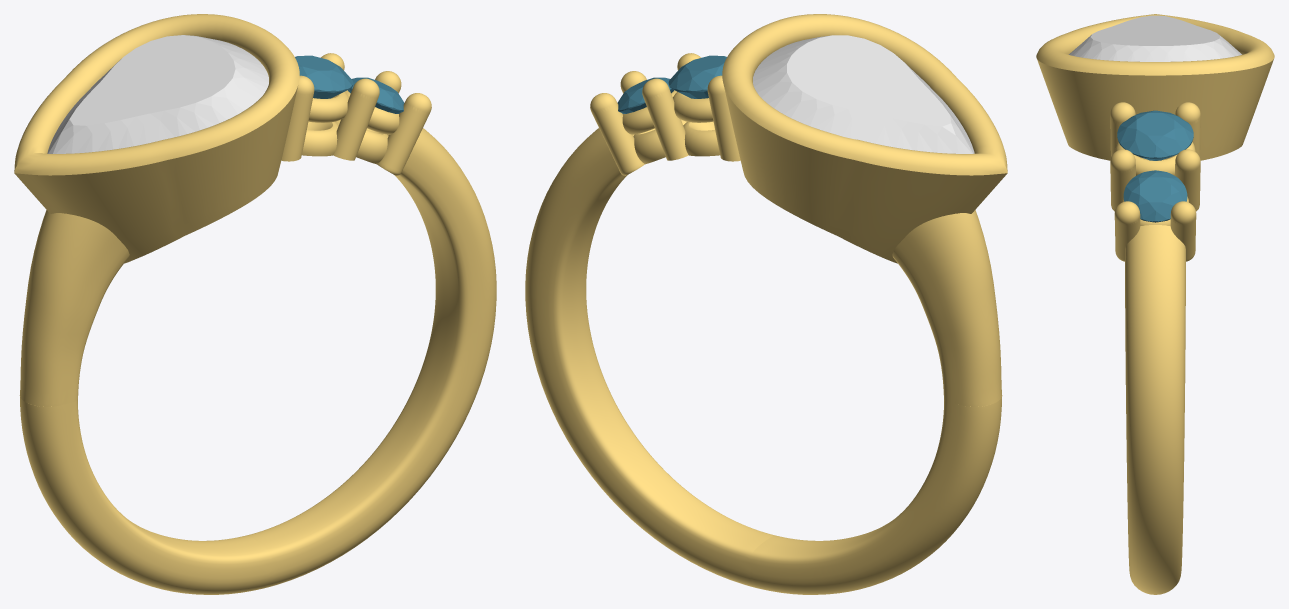
Rendered from NicolasV3yg_blender.glb.
3 views of the same model, side by side, from view 1: azimuth 30°, elevation 25°; view 2: azimuth 150°, elevation 25°; view 3: azimuth 270°, elevation 25° (orthographic). The views are drawn at different scales.
Visible parts, largest first — view 1: V3 Nicolas YG for 3d model, V3 Nicolas center dia for 3d model, V3 Nicolas side sapphire for 3d model.001, V3 Nicolas side sapphire for 3d model; view 2: V3 Nicolas YG for 3d model, V3 Nicolas center dia for 3d model, V3 Nicolas side sapphire for 3d model.001, V3 Nicolas side sapphire for 3d model; view 3: V3 Nicolas YG for 3d model, V3 Nicolas center dia for 3d model, V3 Nicolas side sapphire for 3d model.001, V3 Nicolas side sapphire for 3d model.
Part boxes in pixels (x1,y1,x2,y2): V3 Nicolas YG for 3d model: (14, 14, 496, 594); V3 Nicolas center dia for 3d model: (47, 35, 268, 153); V3 Nicolas side sapphire for 3d model.001: (295, 55, 353, 98); V3 Nicolas side sapphire for 3d model: (348, 77, 404, 113); V3 Nicolas YG for 3d model: (525, 14, 1007, 594); V3 Nicolas center dia for 3d model: (753, 35, 974, 153); V3 Nicolas side sapphire for 3d model.001: (668, 55, 726, 98); V3 Nicolas side sapphire for 3d model: (617, 77, 673, 113); V3 Nicolas YG for 3d model: (1036, 14, 1274, 594); V3 Nicolas center dia for 3d model: (1069, 15, 1241, 61); V3 Nicolas side sapphire for 3d model.001: (1117, 110, 1193, 160); V3 Nicolas side sapphire for 3d model: (1123, 170, 1187, 222).
Bounding box in the file's own units: 20.11 × 22.14 × 9.35.
